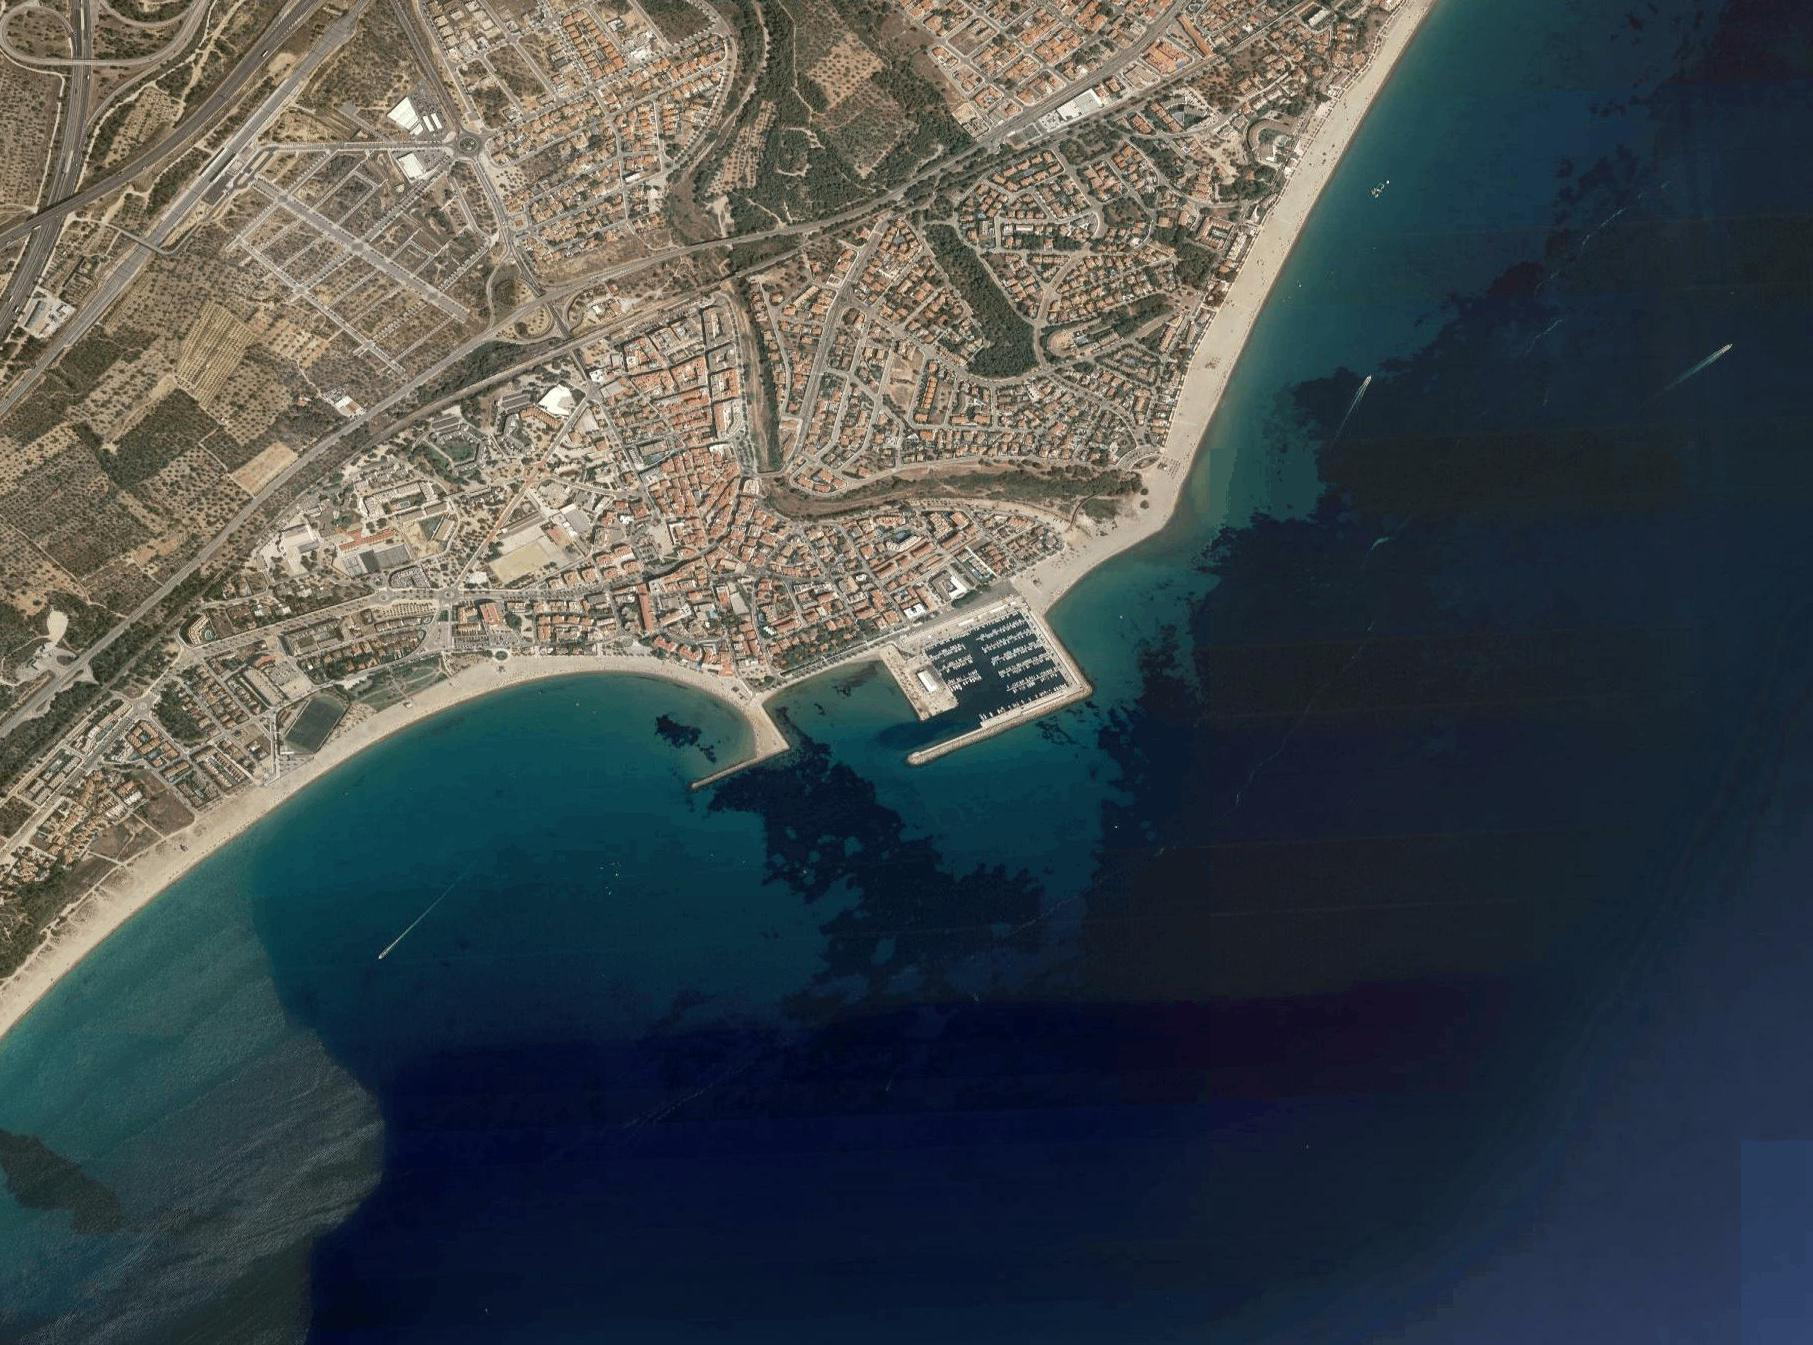harbor: (719, 583, 1089, 817)
motorway: (187, 374, 408, 564), (406, 240, 678, 390), (1, 558, 211, 742), (1, 1, 99, 304), (102, 83, 229, 188), (1, 298, 98, 429), (102, 192, 203, 314), (213, 1, 341, 90), (681, 209, 822, 253), (1041, 54, 1121, 113), (822, 175, 904, 232), (1123, 1, 1193, 61), (961, 109, 1037, 162), (892, 148, 967, 202)
